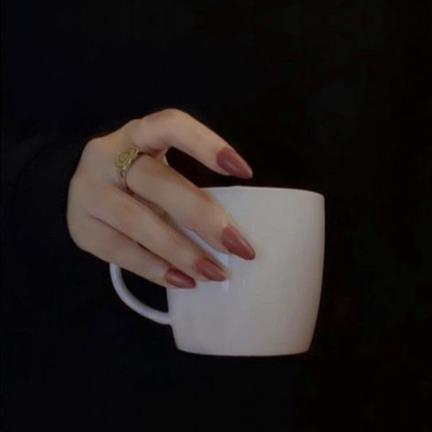Nail: (216, 146, 253, 178), (222, 225, 255, 260), (196, 258, 227, 282), (166, 268, 196, 289)
